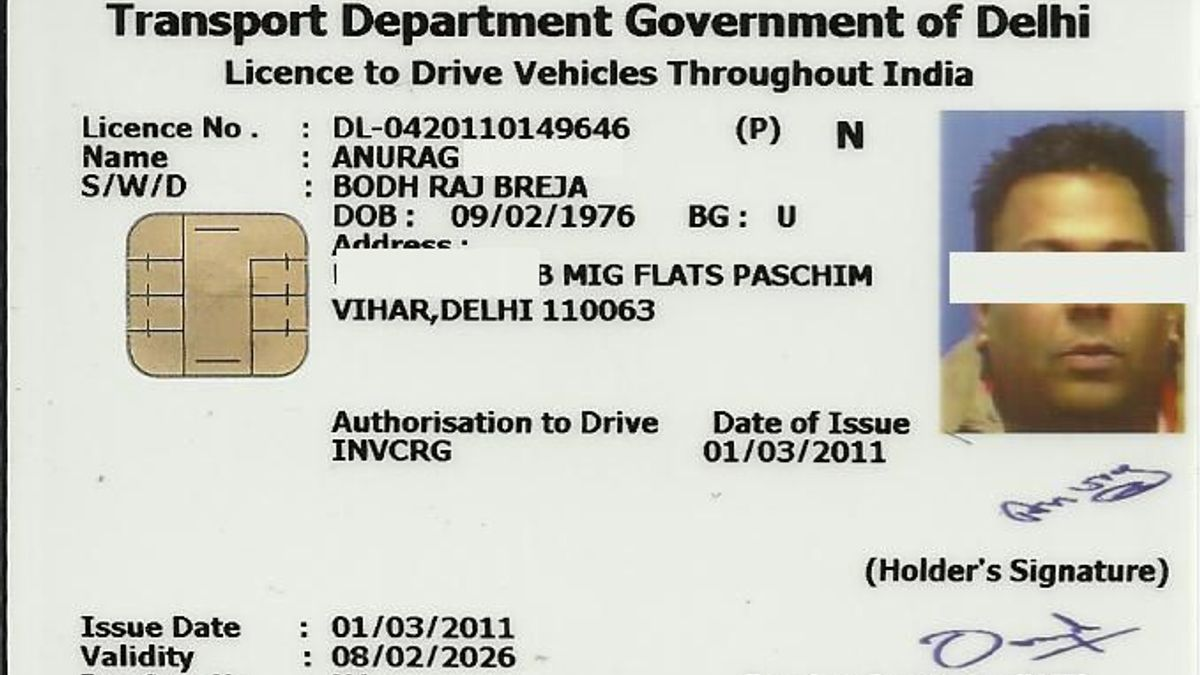drivinglicence: (15, 3, 1198, 670)
